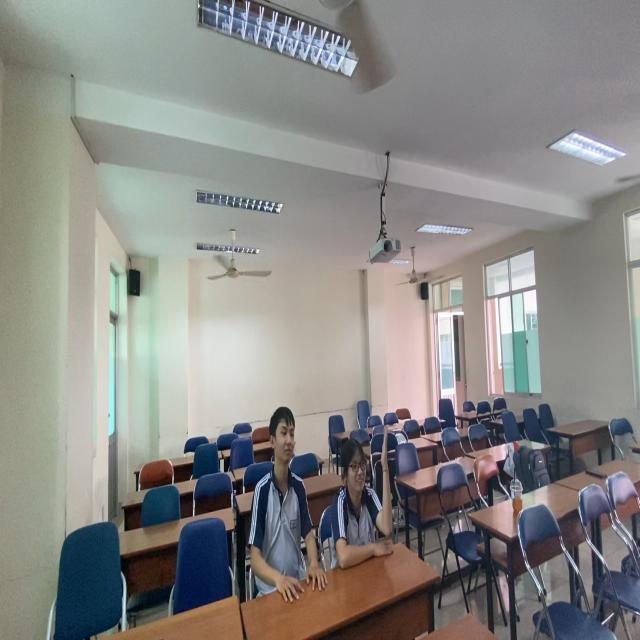raise_hand: (325, 395, 409, 583)
